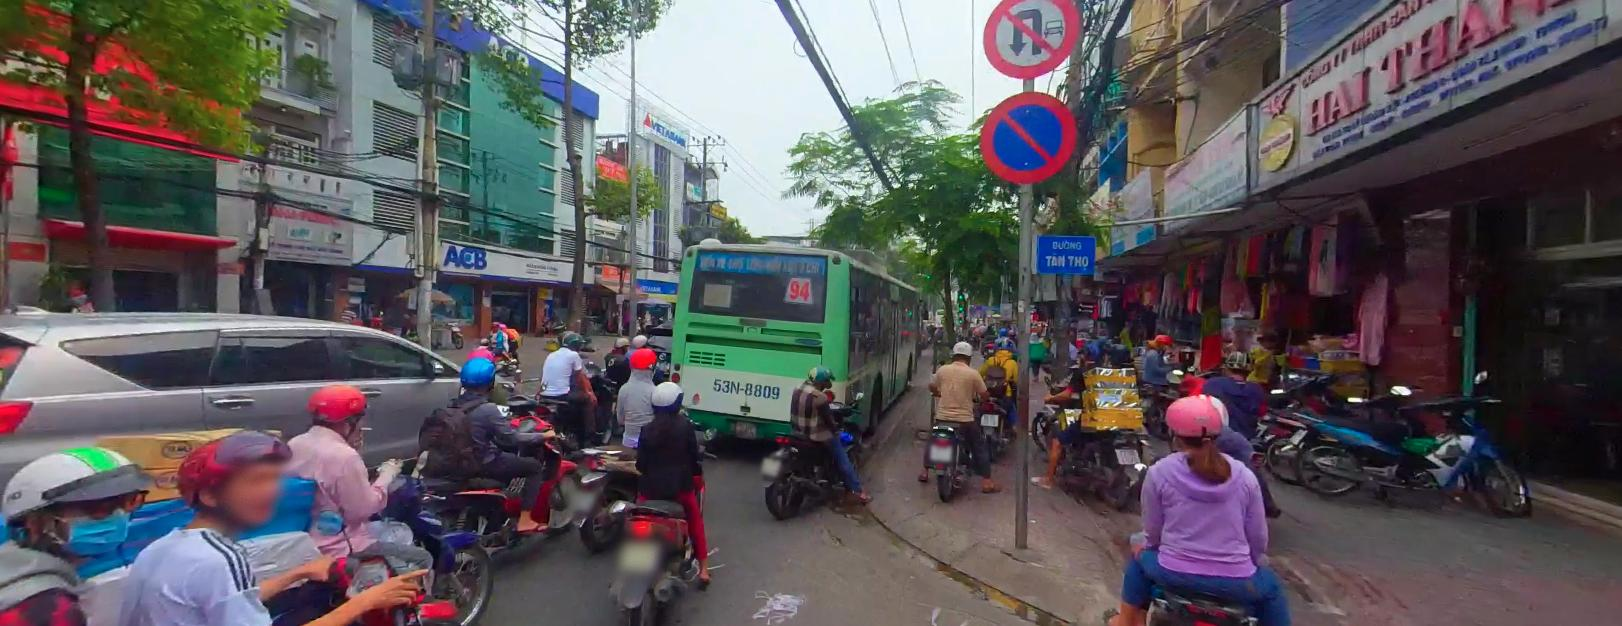Cam dung va do: (971, 87, 1087, 188)
Cam re: (977, 0, 1082, 86)
